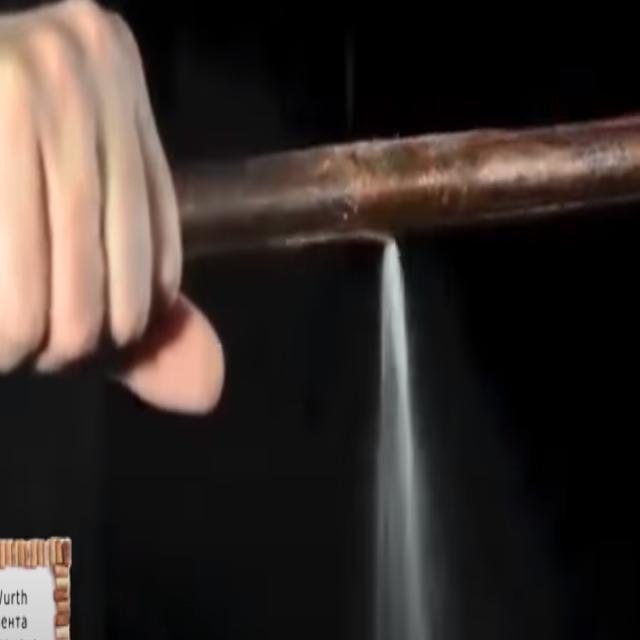leak: (375, 240, 428, 638)
